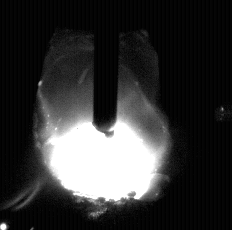arame: (94, 0, 119, 137)
poca: (34, 0, 172, 230)
